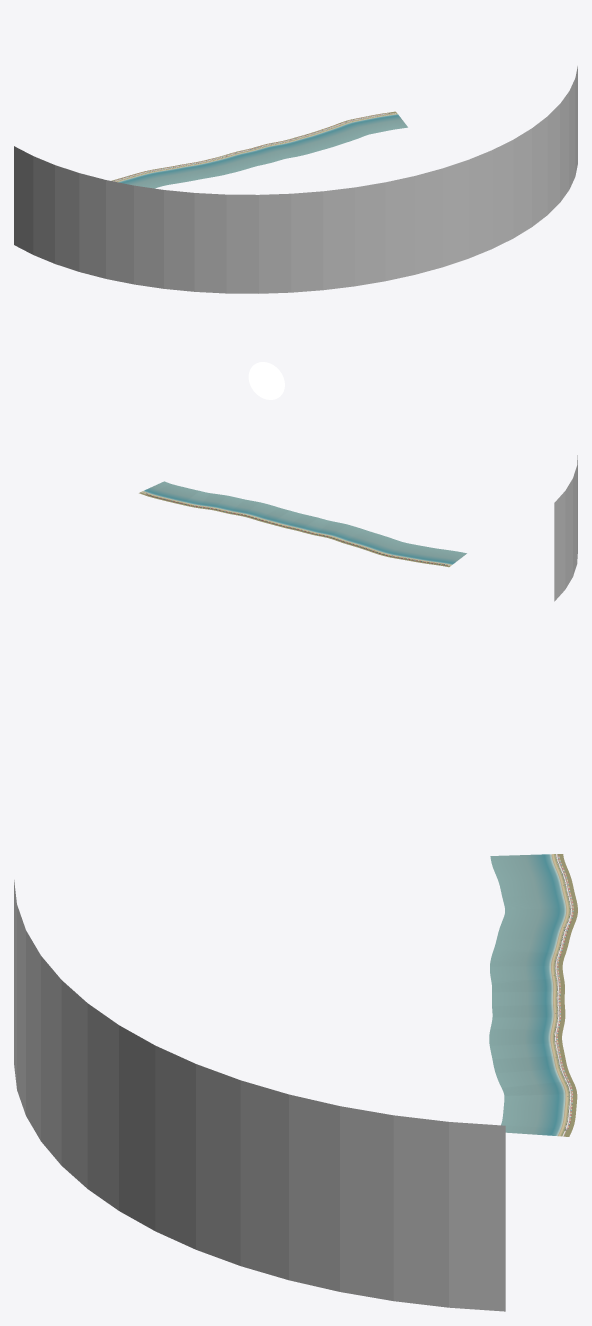
File: southbeach.glb
3 renders of one model, top to bottom at view 1: azimuth 30°, elevation 25°; view 2: azimuth 150°, elevation 25°; view 3: azimuth 270°, elevation 25°, orthographic. The views are drawn at different scales.
Visible parts, largest first — view 1: AtlanticDawn_000, AtlanticDawn_030, AtlanticDawn_011, AtlanticDawn_008, AtlanticDawn_012, AtlanticDawn_016, AtlanticDawn_019, AtlanticDawn_020, AtlanticDawn_022, Land_005, Land_002, Land_004 (+4 smaller); view 2: AtlanticDawn_000, Sun, Land_005, Land_002, Land_003, Land_004, Land_000, Land_001, Land_006, Land_007; view 3: AtlanticDawn_030, Land_000, Land_005, Land_002, AtlanticDawn_022, Land_003, Land_004, Land_001, Land_006, AtlanticDawn_020, Land_007.
Part boxes in pixels (box(x1,y1,x2,y2)): AtlanticDawn_000: box(14, 146, 258, 293); AtlanticDawn_030: box(492, 66, 577, 248); AtlanticDawn_011: box(291, 187, 354, 292); AtlanticDawn_008: box(259, 193, 291, 293); AtlanticDawn_012: box(355, 182, 385, 286); AtlanticDawn_016: box(385, 176, 414, 280); AtlanticDawn_019: box(415, 168, 442, 274); AtlanticDawn_020: box(443, 160, 468, 266); AtlanticDawn_022: box(468, 150, 492, 258); Land_005: box(292, 127, 354, 152); Land_002: box(167, 159, 228, 182); Land_004: box(250, 138, 310, 162); AtlanticDawn_000: box(554, 455, 577, 601); Sun: box(248, 362, 284, 399); Land_005: box(205, 494, 265, 517); Land_002: box(328, 524, 389, 549); Land_003: box(287, 514, 347, 537); Land_004: box(247, 504, 304, 528); Land_000: box(406, 546, 466, 567); Land_001: box(366, 537, 421, 560); Land_006: box(162, 487, 216, 508); Land_007: box(139, 481, 182, 499); AtlanticDawn_030: box(41, 956, 505, 1311); Land_000: box(490, 854, 574, 895); Land_005: box(489, 1038, 569, 1081); Land_002: box(490, 926, 572, 966); AtlanticDawn_022: box(26, 930, 40, 1140); Land_003: box(490, 965, 564, 1004); Land_004: box(489, 1002, 565, 1040); Land_001: box(500, 891, 577, 929); Land_006: box(499, 1074, 577, 1113); AtlanticDawn_020: box(17, 905, 25, 1114); Land_007: box(501, 1112, 575, 1136).
Bounding box in the file's own units: 12743 × 2230 × 6132.
